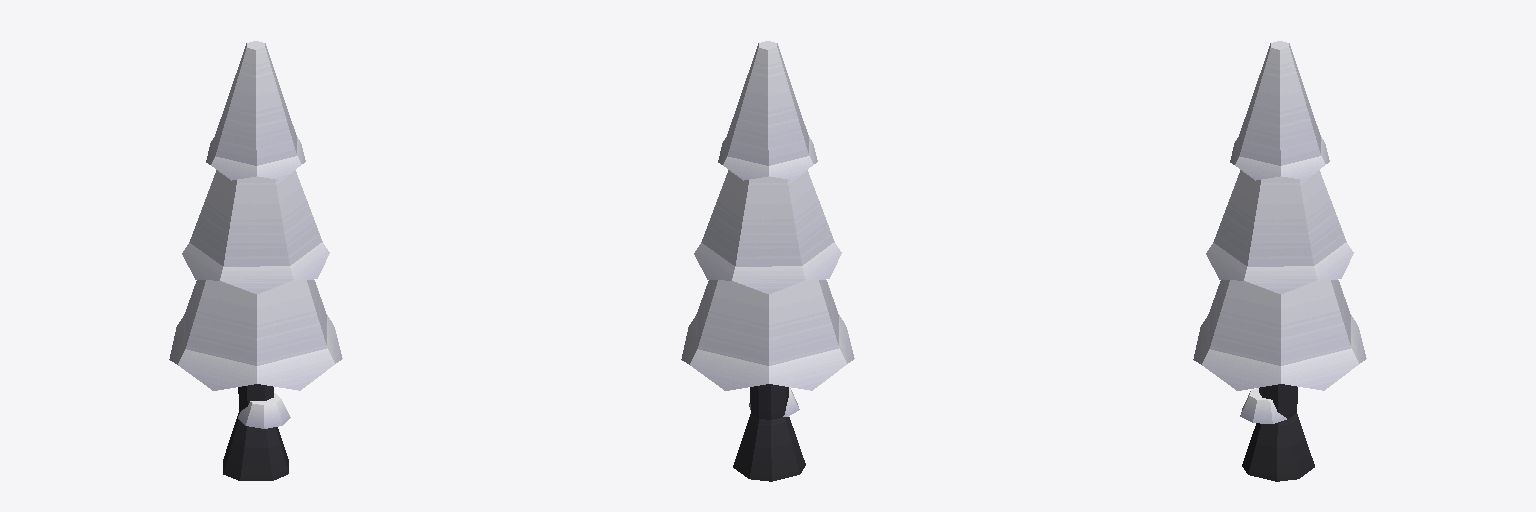
3 views of the same model, side by side, from view 1: azimuth 30°, elevation 25°; view 2: azimuth 150°, elevation 25°; view 3: azimuth 270°, elevation 25° (orthographic).
Visible parts, largest first — view 1: tree.045; view 2: tree.045; view 3: tree.045.
Boxes of the visible parts, <box> form: tree.045: <box>169,41,342,480</box>; tree.045: <box>681,41,854,481</box>; tree.045: <box>1193,41,1366,481</box>.
Bounding box in the file's own units: 1.36 × 3.47 × 1.3.
Materials: 1 (1 with a texture image).